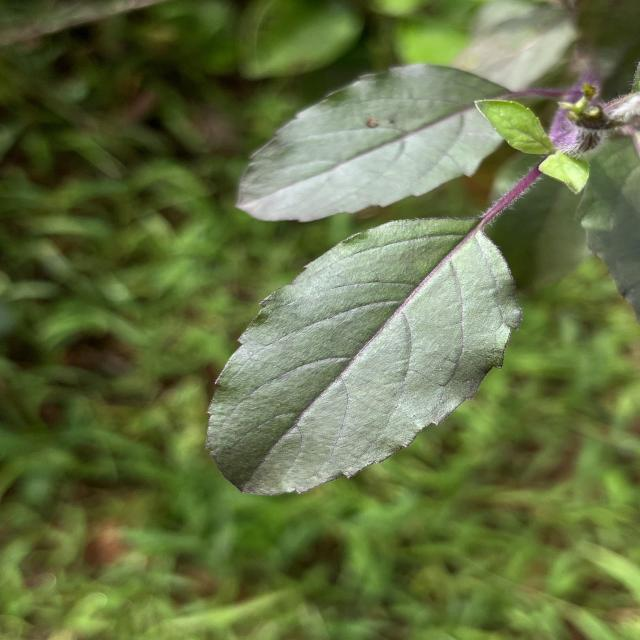Ocimum tenuiflorum: (189, 207, 530, 502)
